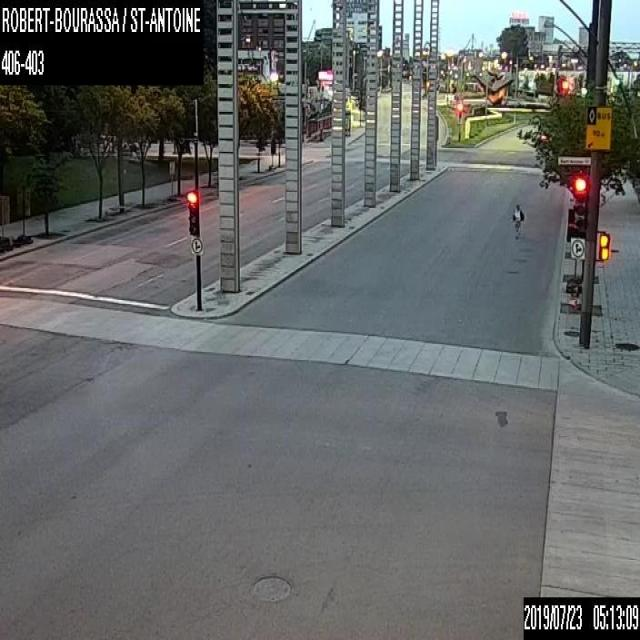cyclist: (512, 202, 524, 242)
